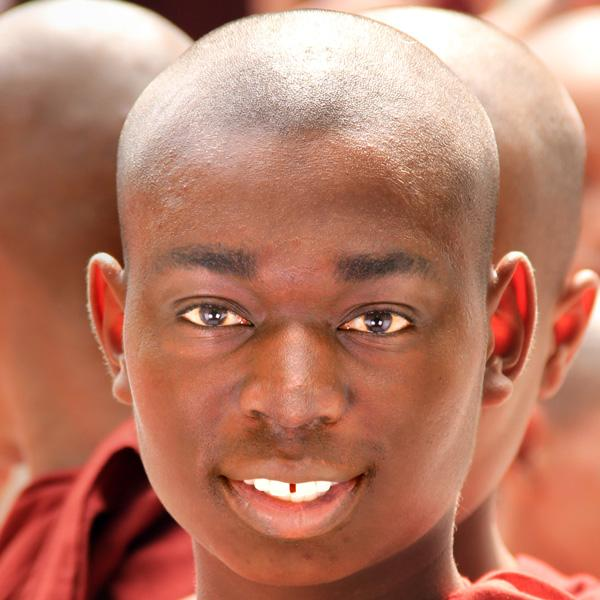Eyes: (165, 282, 259, 350), (326, 289, 424, 354)
